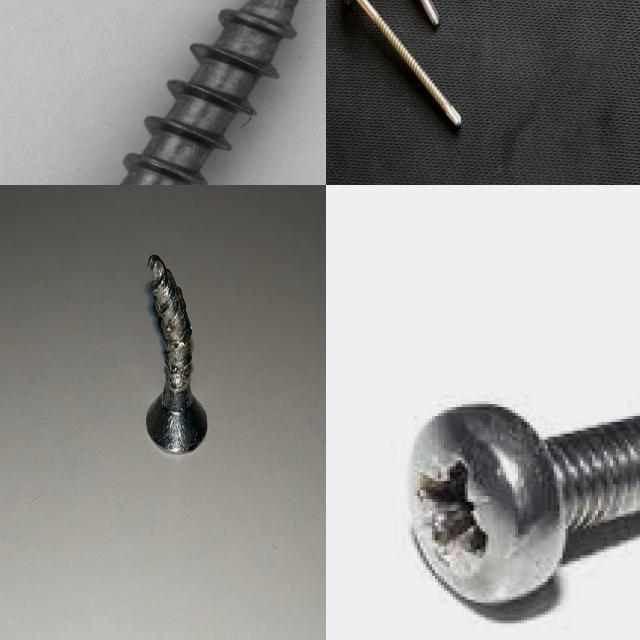Screw: (0, 0, 326, 185), (408, 404, 640, 603), (340, 0, 461, 126), (147, 254, 207, 453)
